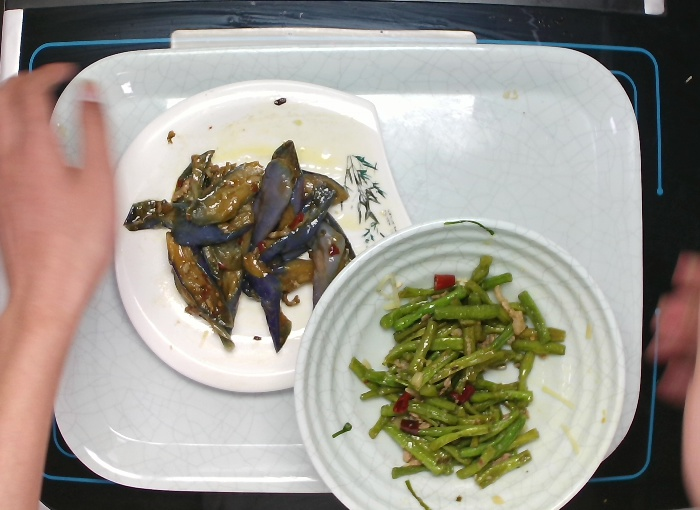JYsf-Da_Tang_Wan: (292, 217, 624, 510)
JYsf-Mian_Pan: (110, 77, 416, 399)
